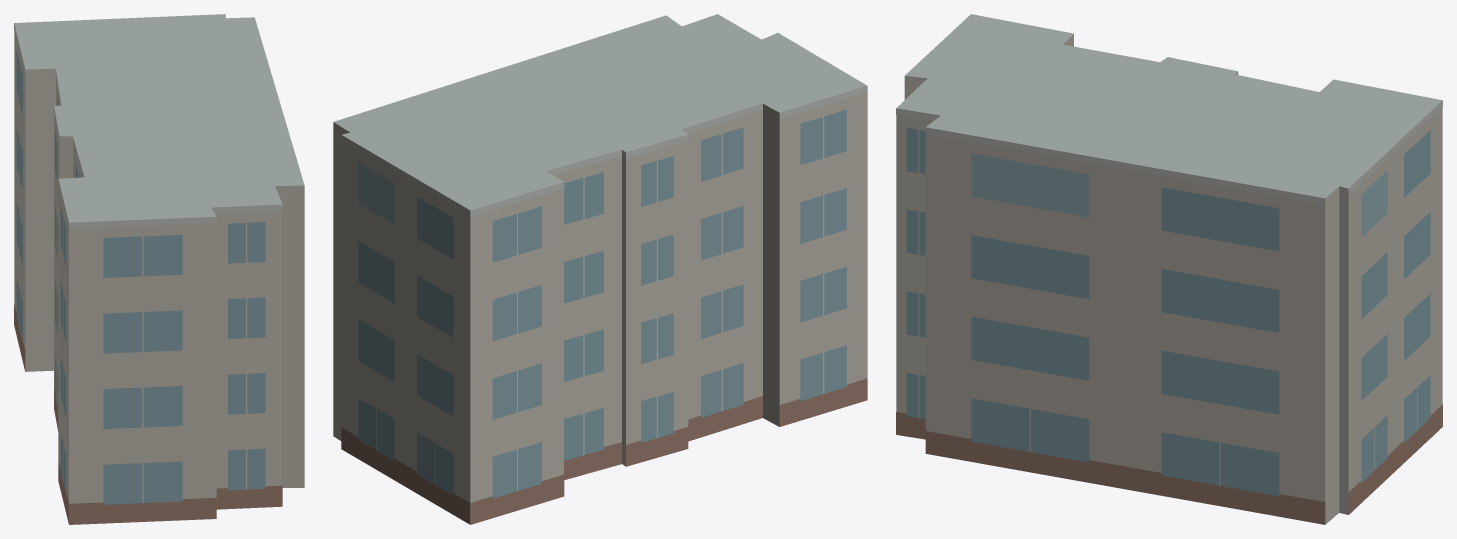
The model's file is survey-upis-32990082.glb.
3 views of the same model, side by side, from view 1: azimuth 30°, elevation 25°; view 2: azimuth 150°, elevation 25°; view 3: azimuth 270°, elevation 25° (orthographic). The views are drawn at different scales.
Parts seen in each view (by area): view 1: survey-upis-32990082.tmp; view 2: survey-upis-32990082.tmp; view 3: survey-upis-32990082.tmp.
Part boxes in pixels (left/top/right/bottom): survey-upis-32990082.tmp: left=14, top=14, right=304, bottom=524; survey-upis-32990082.tmp: left=333, top=14, right=867, bottom=524; survey-upis-32990082.tmp: left=896, top=14, right=1442, bottom=524.
Bounding box in the file's own units: 14.41 × 11.89 × 18.05.
